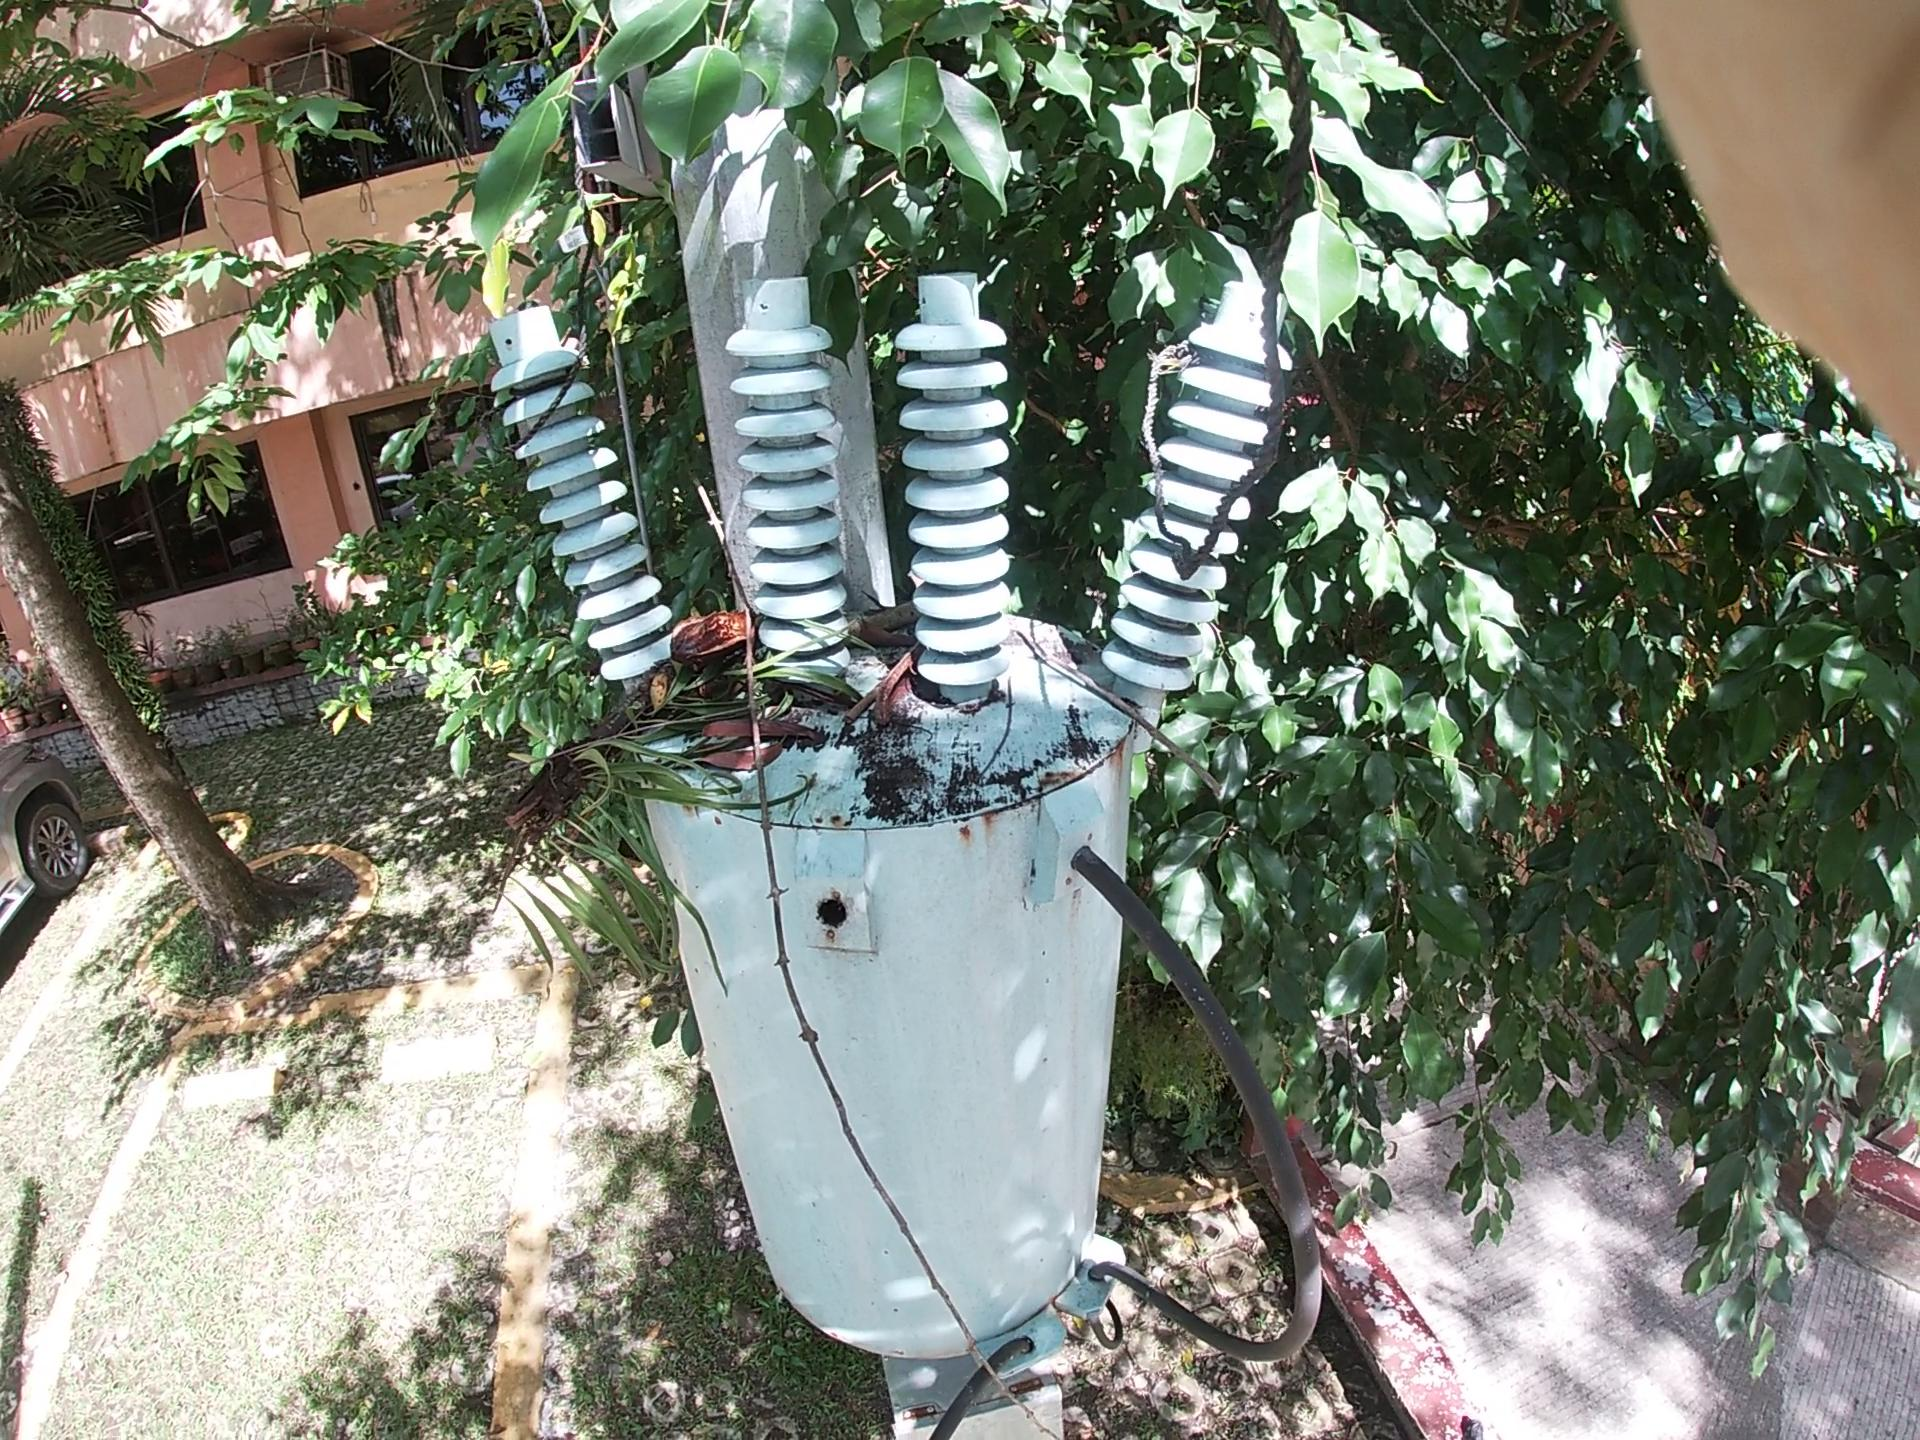branch with leaves: (494, 513, 763, 930)
leaf: (650, 682, 822, 800)
mahogany fruit: (641, 588, 783, 681), (862, 641, 954, 765)
tree branch: (705, 452, 945, 1376), (1039, 597, 1271, 821), (825, 502, 1005, 791)
